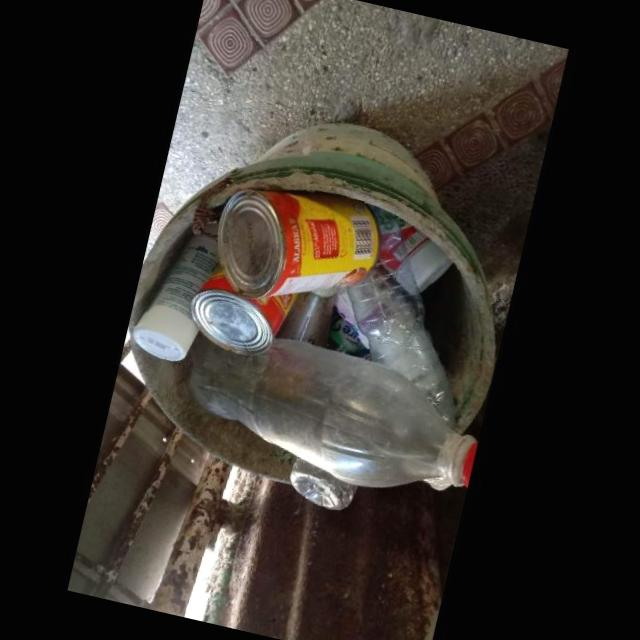chai_nhua: (131, 215, 222, 363)
chai_nhua_pet: (186, 330, 479, 491), (349, 208, 456, 426)
nhom: (216, 190, 379, 301), (191, 264, 301, 354)
